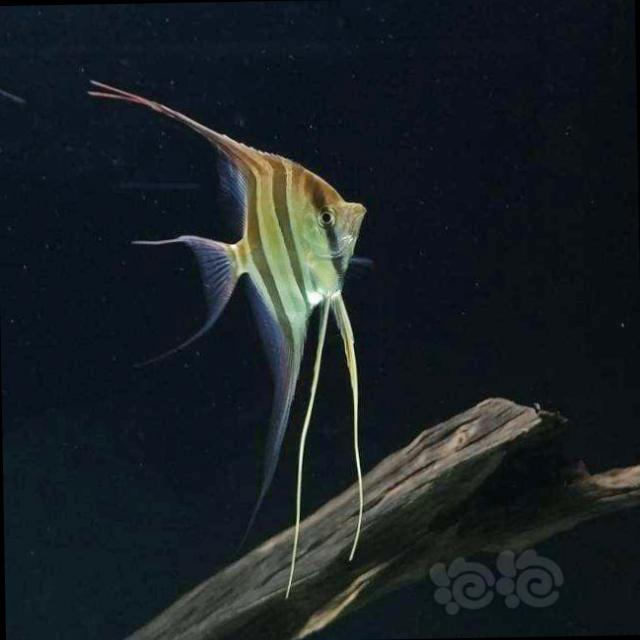AngelFish: (88, 75, 371, 568)
